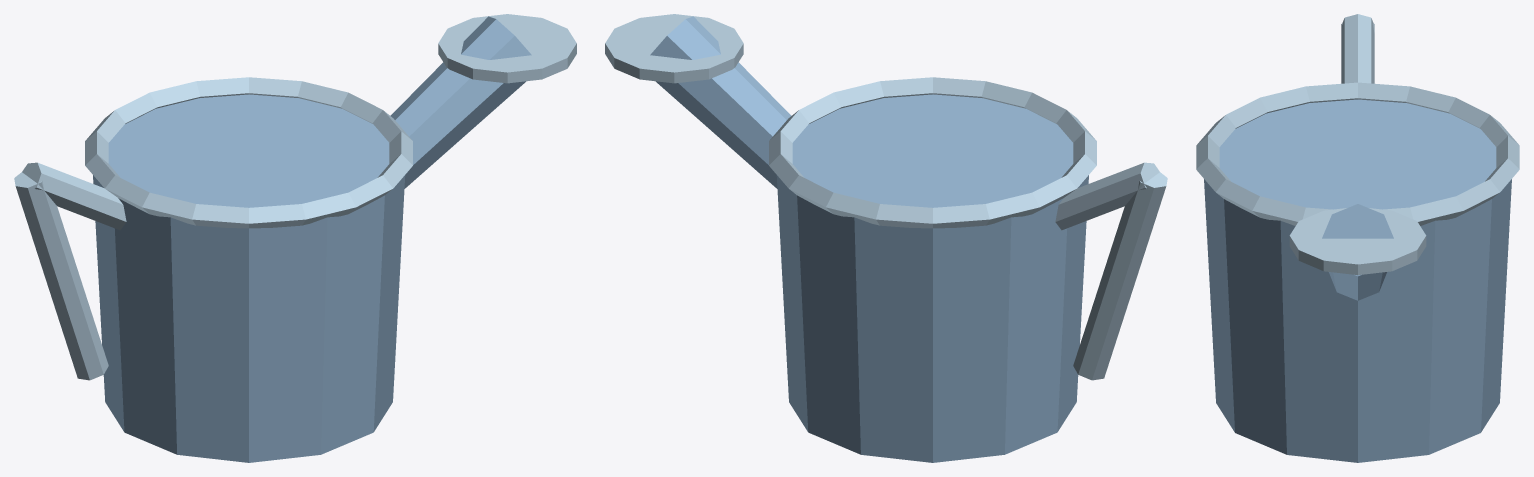
File: regadera.glb
3 views of the same model, side by side, from view 1: azimuth 30°, elevation 25°; view 2: azimuth 150°, elevation 25°; view 3: azimuth 270°, elevation 25° (orthographic).
Parts seen in each view (by area): view 1: regadera; view 2: regadera; view 3: regadera.
Boxes of the visible parts, box(x1,y1,x2,y2) form: regadera: box(14, 14, 576, 462); regadera: box(605, 14, 1167, 462); regadera: box(1196, 14, 1519, 462).
Size of the model in its own units: 2.39 by 1.34 by 1.23.
